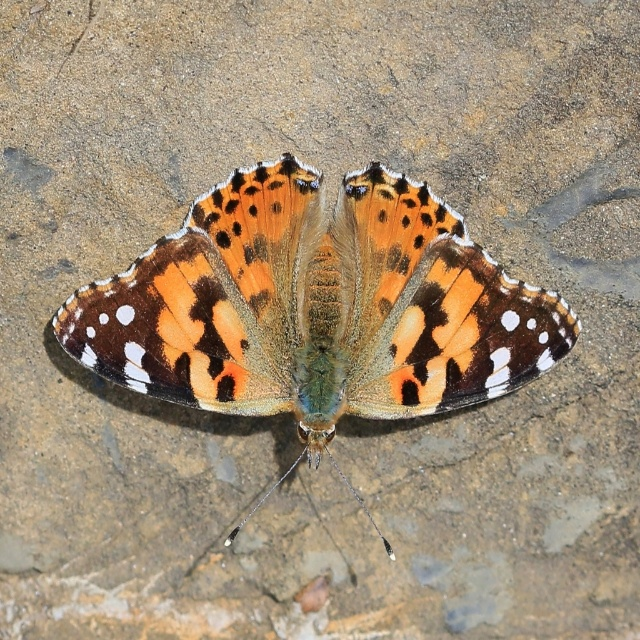Butterfly: (48, 152, 579, 561)
